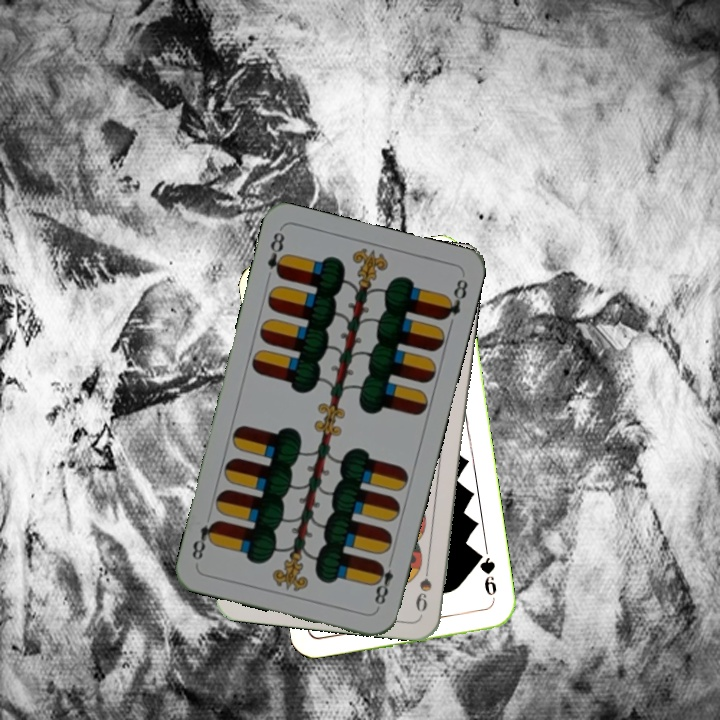E8: (369, 554, 396, 612), (263, 228, 289, 281)
G9: (473, 548, 500, 606)
S9: (411, 556, 434, 615)
